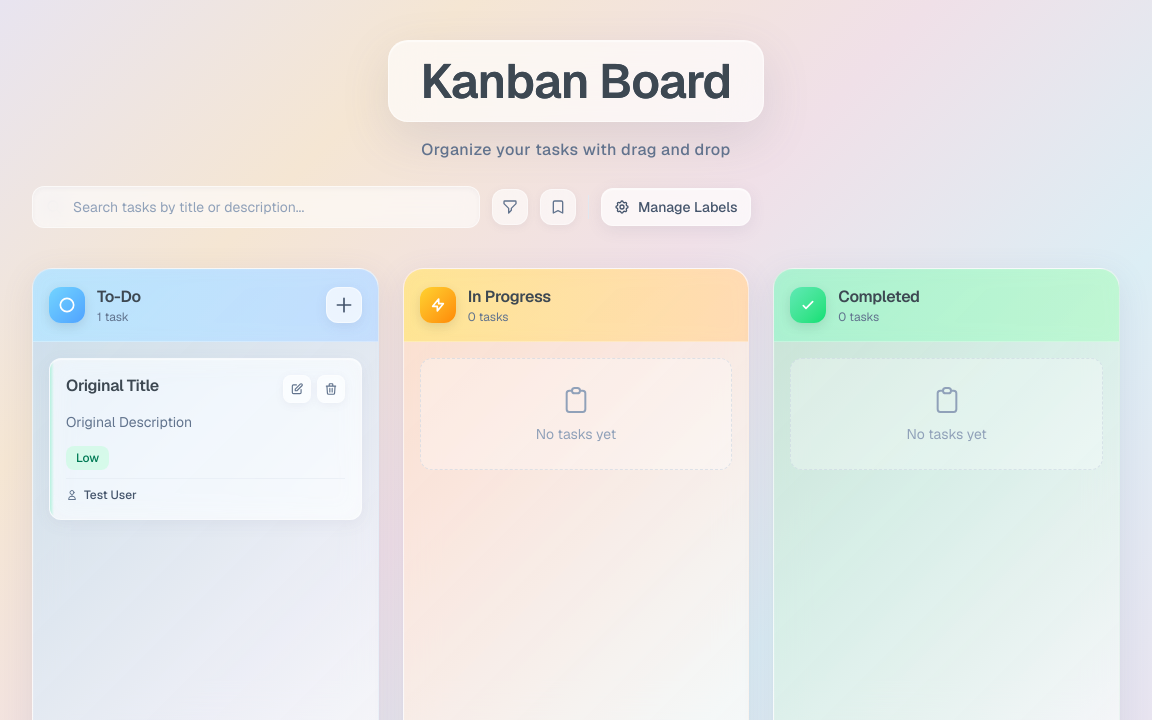
Test: Kanban Board Integration Tests › Edit Task Workflow › should edit a task and persist changes
Expected: the heading "Original Title" is shown, [66,375,159,397]
Click the button named "edit task: original title". click: (297, 389)
box: [283,375,311,403]
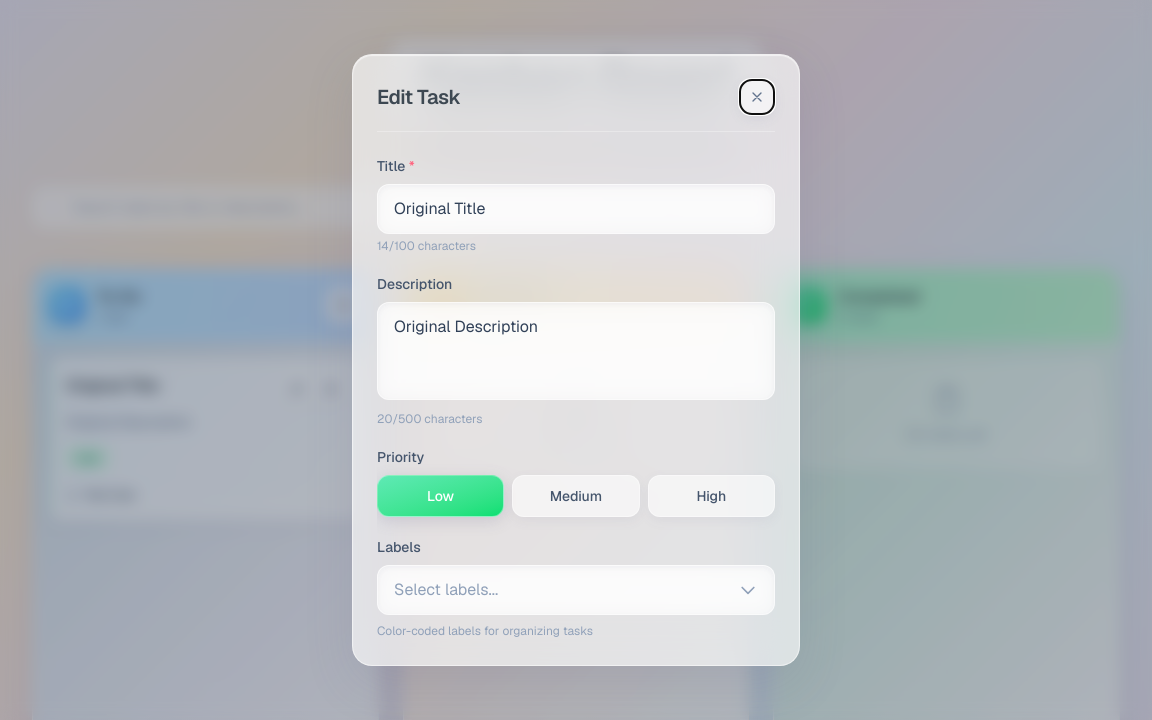
Expected: the dialog is shown, [352,54,800,666]
Replace the text in the field labelled "Title *" with "Updated Title". click: (576, 209)
box: [377,184,775,234]
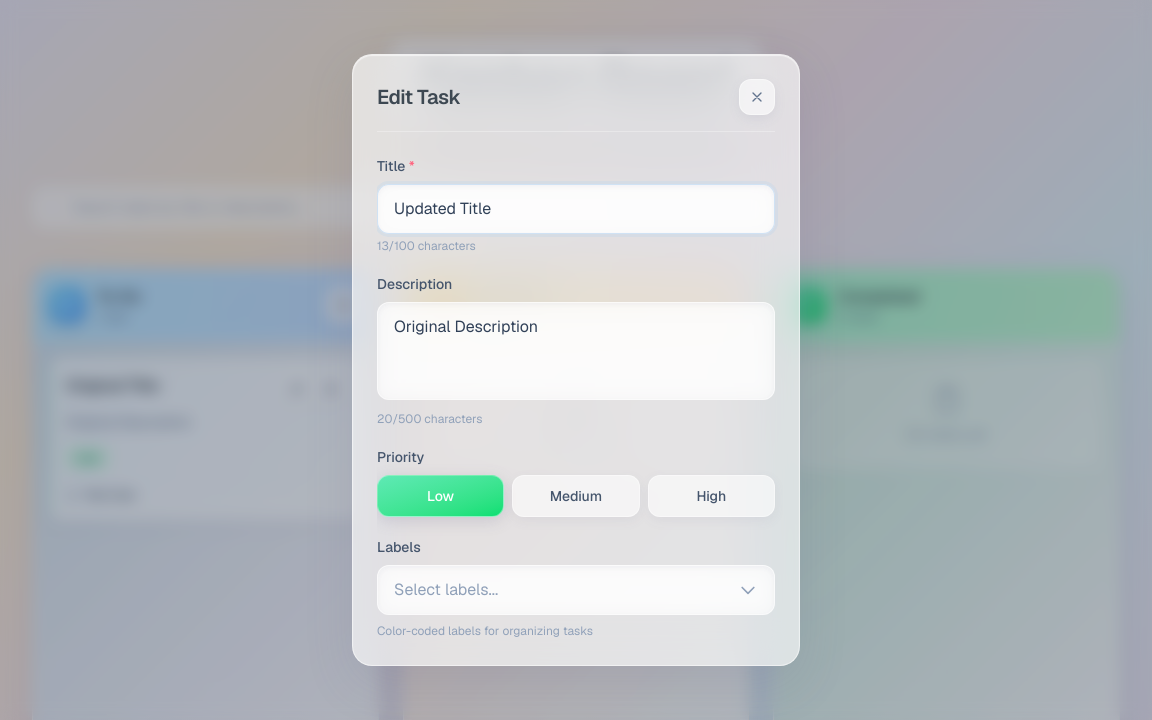
Replace the text in the text box labelled "Description" with "Updated Description". click: (576, 351)
box: [377,302,775,400]
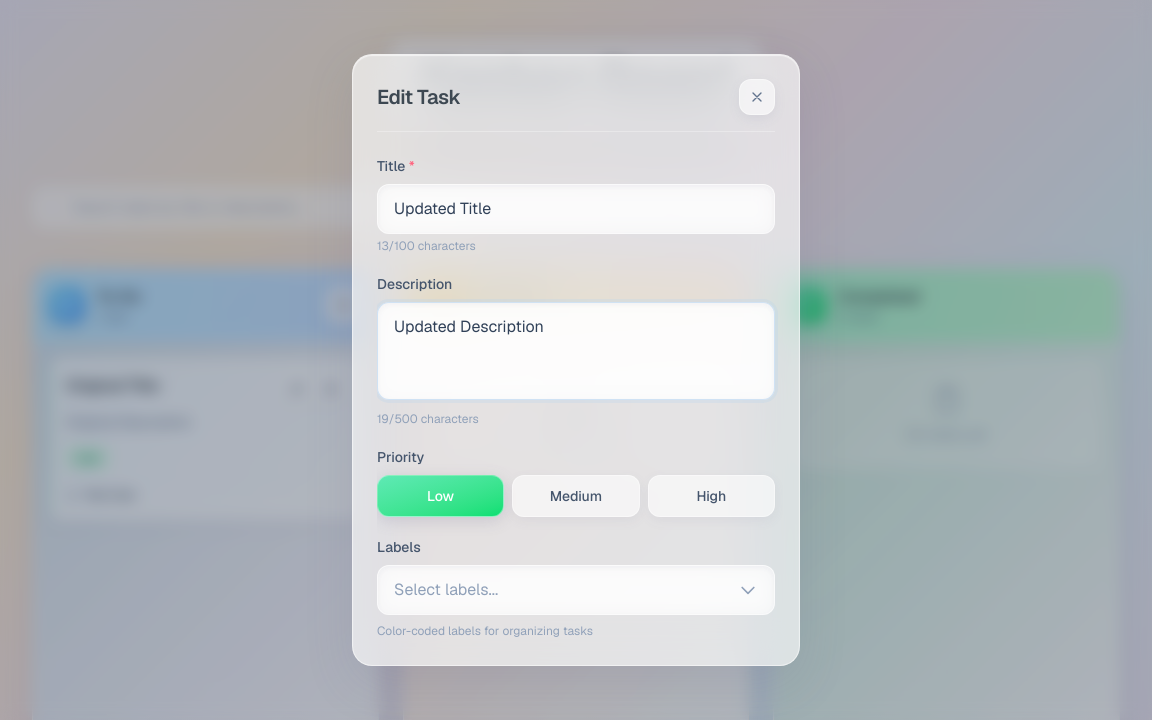
Click the button "High". click: (711, 496)
box: [648,475,775,517]
(page scrolled)
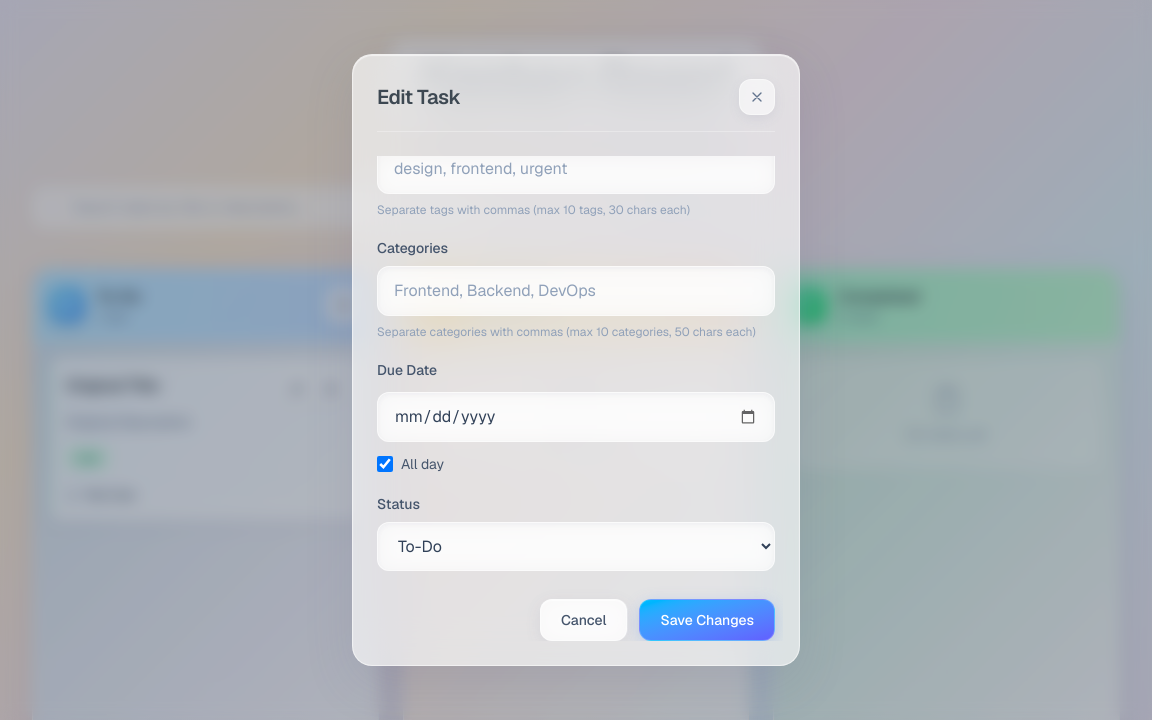
Click the button "Save Changes". click: (707, 620)
box: [639,599,775,641]
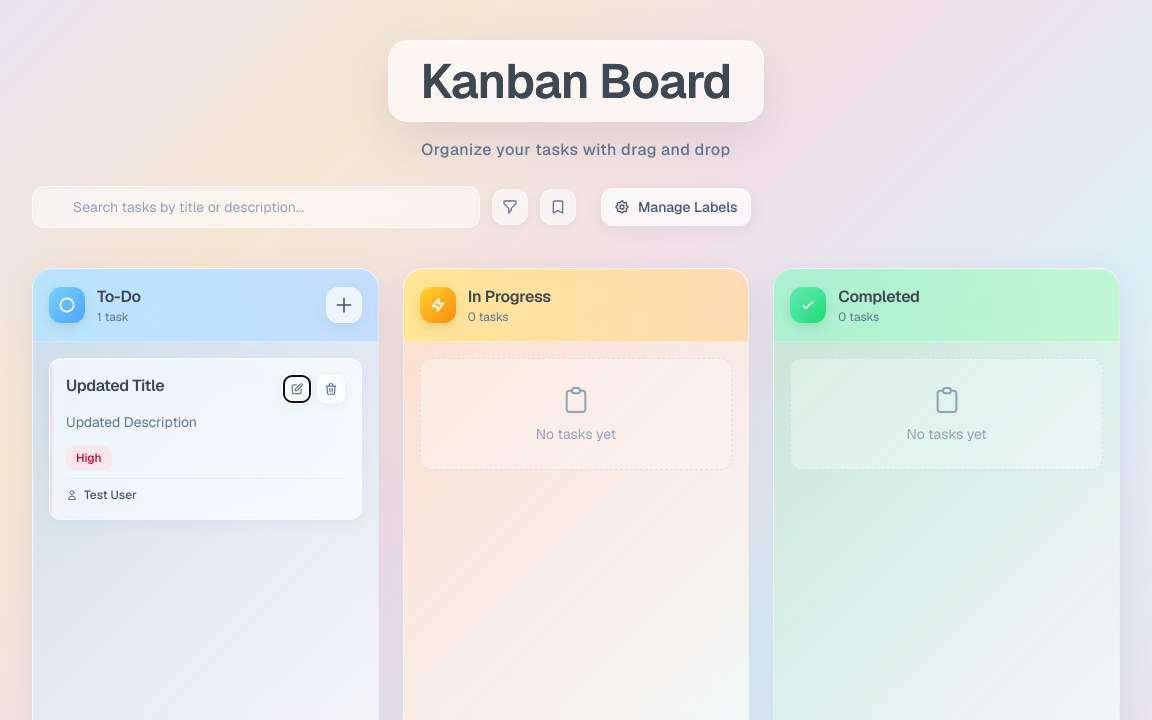
Expected: the dialog is gone
Expected: the heading "Updated Title" is shown, [66,375,164,397]
Expected: the button "Original Title" is gone
